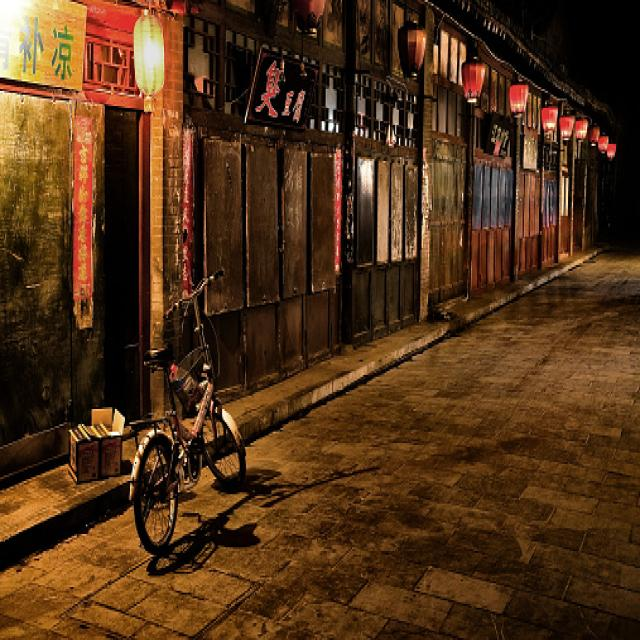Bicycle: (137, 287, 243, 560)
